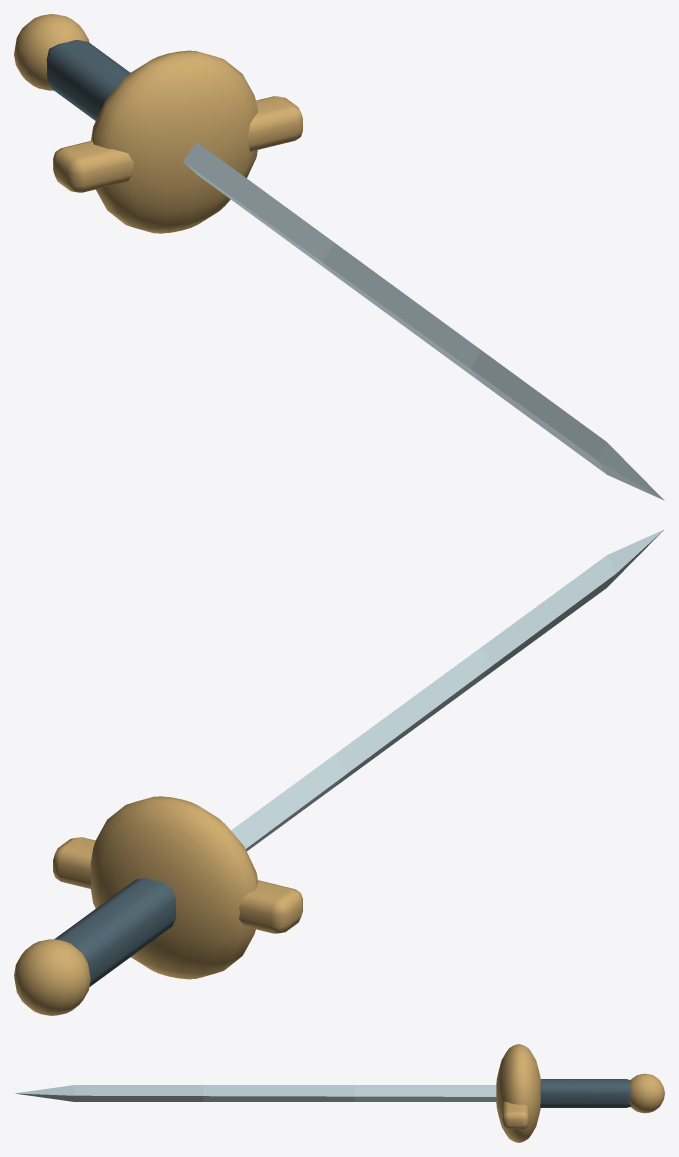
File: training_rapier.glb
3 views of the same model, one above another, from view 1: azimuth 30°, elevation 25°; view 2: azimuth 150°, elevation 25°; view 3: azimuth 270°, elevation 25° (orthographic). The views are drawn at different scales.
Parts seen in each view (by area): view 1: cup_guard, training_blade, guard, grip, pommel; view 2: cup_guard, training_blade, grip, pommel, guard; view 3: training_blade, cup_guard, grip, pommel, guard.
Part boxes in pixels (<box>): cup_guard: <box>91,50,257,233</box>; training_blade: <box>183,142,664,500</box>; guard: <box>53,96,302,192</box>; grip: <box>46,40,130,120</box>; pommel: <box>14,14,89,90</box>; cup_guard: <box>90,796,257,979</box>; training_blade: <box>231,529,664,851</box>; grip: <box>54,878,176,986</box>; pommel: <box>14,939,90,1015</box>; guard: <box>53,837,302,933</box>; training_blade: <box>14,1085,496,1101</box>; cup_guard: <box>496,1044,540,1142</box>; grip: <box>540,1079,631,1107</box>; pommel: <box>629,1073,664,1113</box>; guard: <box>502,1101,528,1129</box>.
Bounding box in the file's own units: 0.42 × 0.3 × 1.96.
